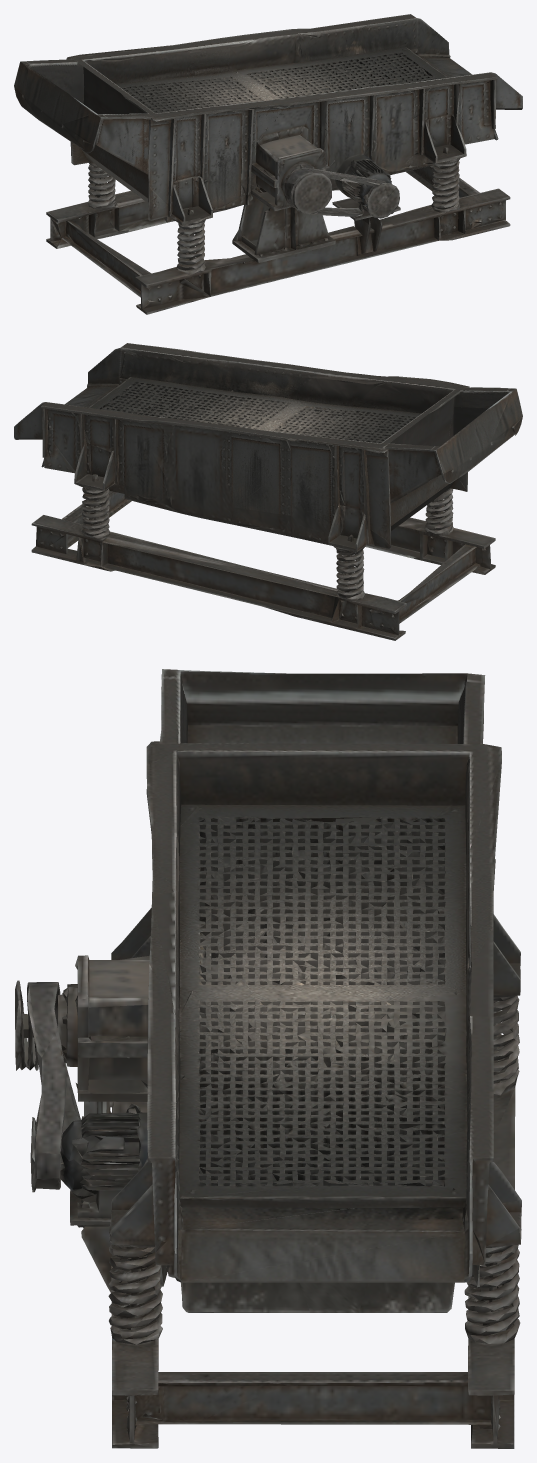
File: siebhaus_vibrating_screen.glb
The picture shows the model from 3 angles, top to bottom: view 1: azimuth 30°, elevation 25°; view 2: azimuth 150°, elevation 25°; view 3: azimuth 270°, elevation 25°; orthographic projection. The views are drawn at different scales.
Size of the model in its own units: 1.9 by 0.8236 by 0.9644.
1 material, 1 textured.
